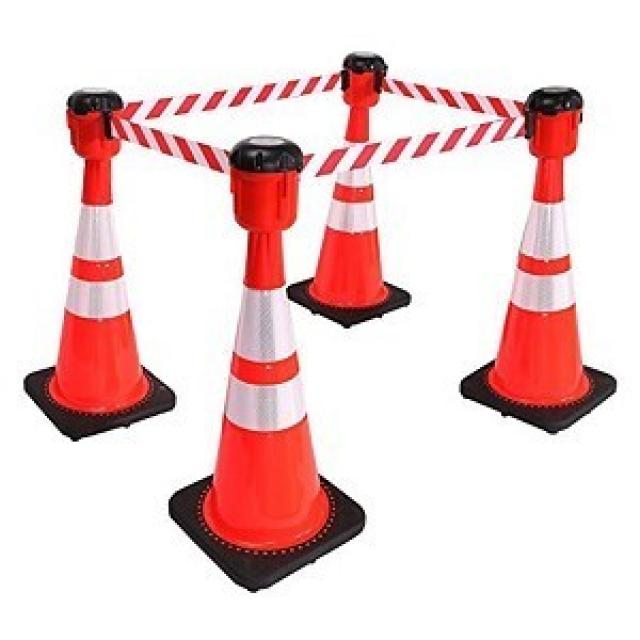Traffic Cone: (166, 198, 371, 599), (18, 132, 175, 446), (459, 134, 614, 433), (282, 80, 412, 331)
